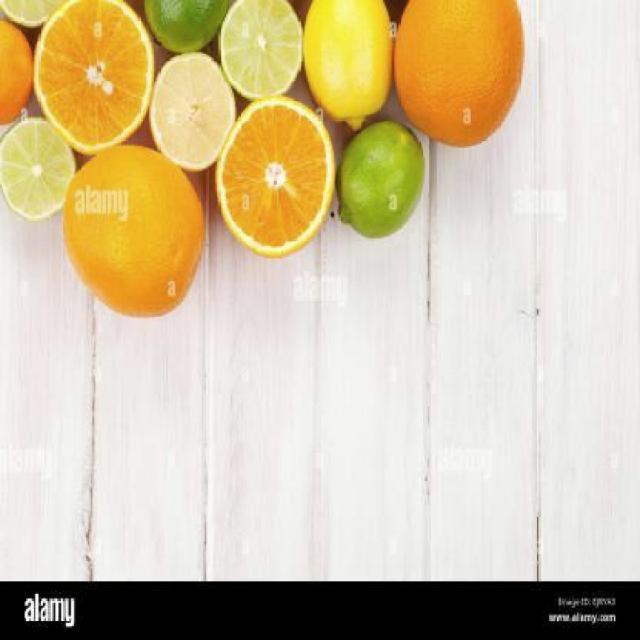Jeruk Sudah Matang: (64, 143, 204, 320), (391, 0, 524, 154), (0, 11, 34, 126)
